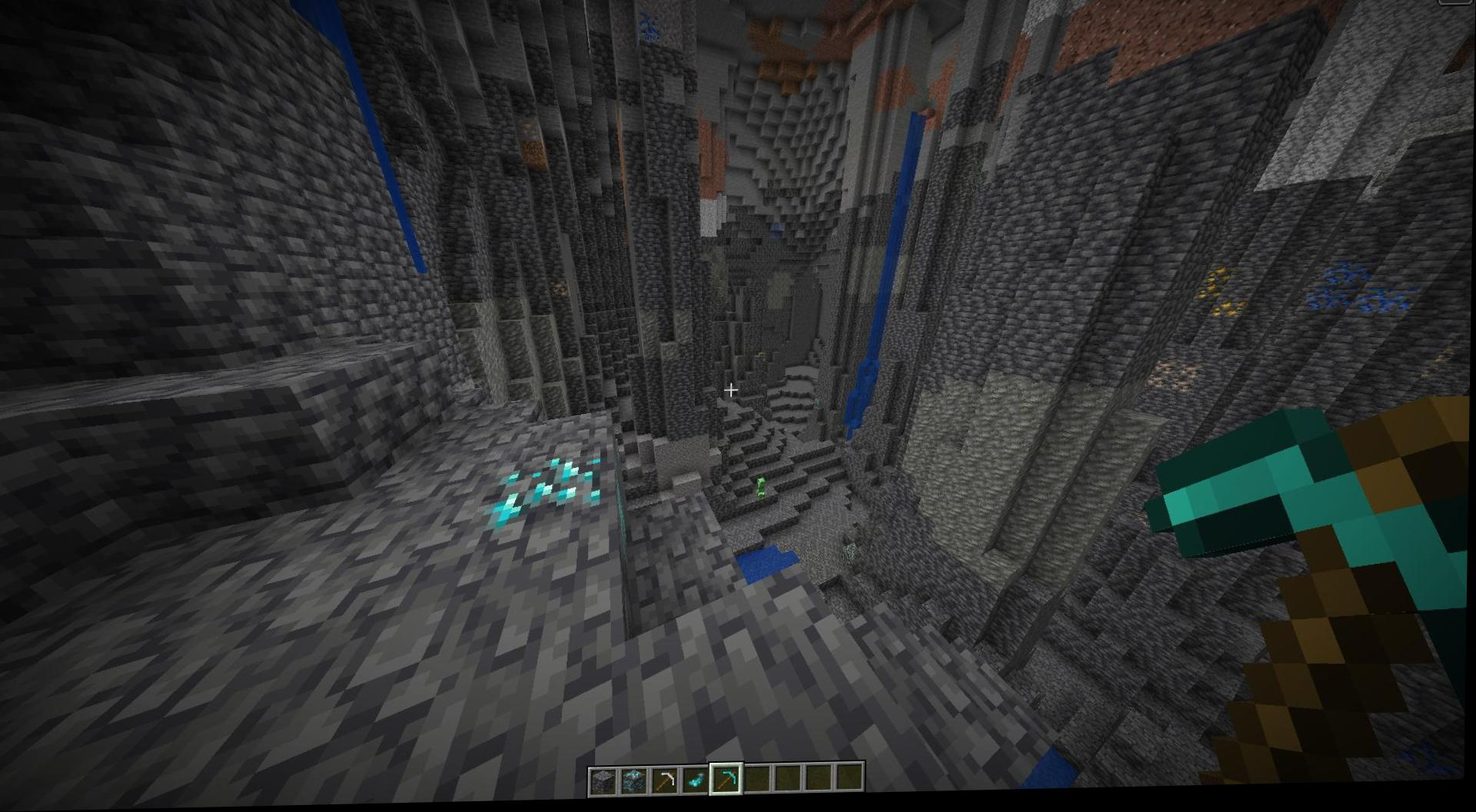diamond ore: (492, 458, 605, 524)
gold ore: (1208, 271, 1236, 294), (1215, 305, 1243, 327), (1198, 287, 1230, 304)
iron ore: (1148, 364, 1202, 400), (514, 117, 543, 144), (552, 283, 571, 302)
